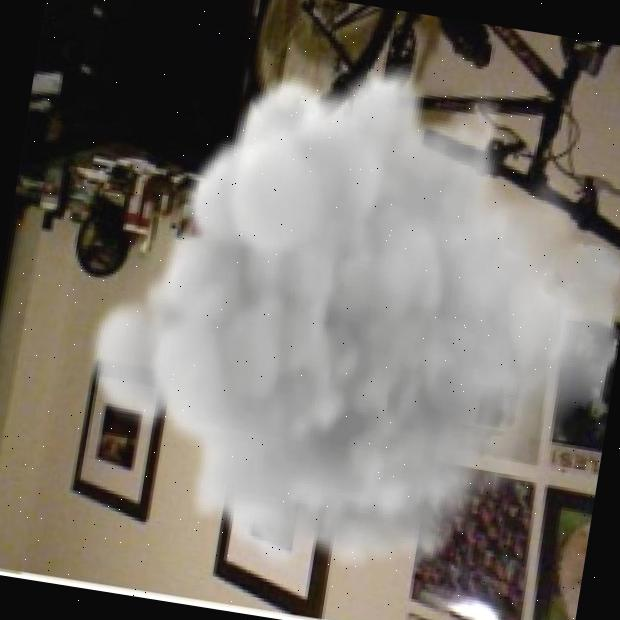smoke: (54, 19, 620, 615)
